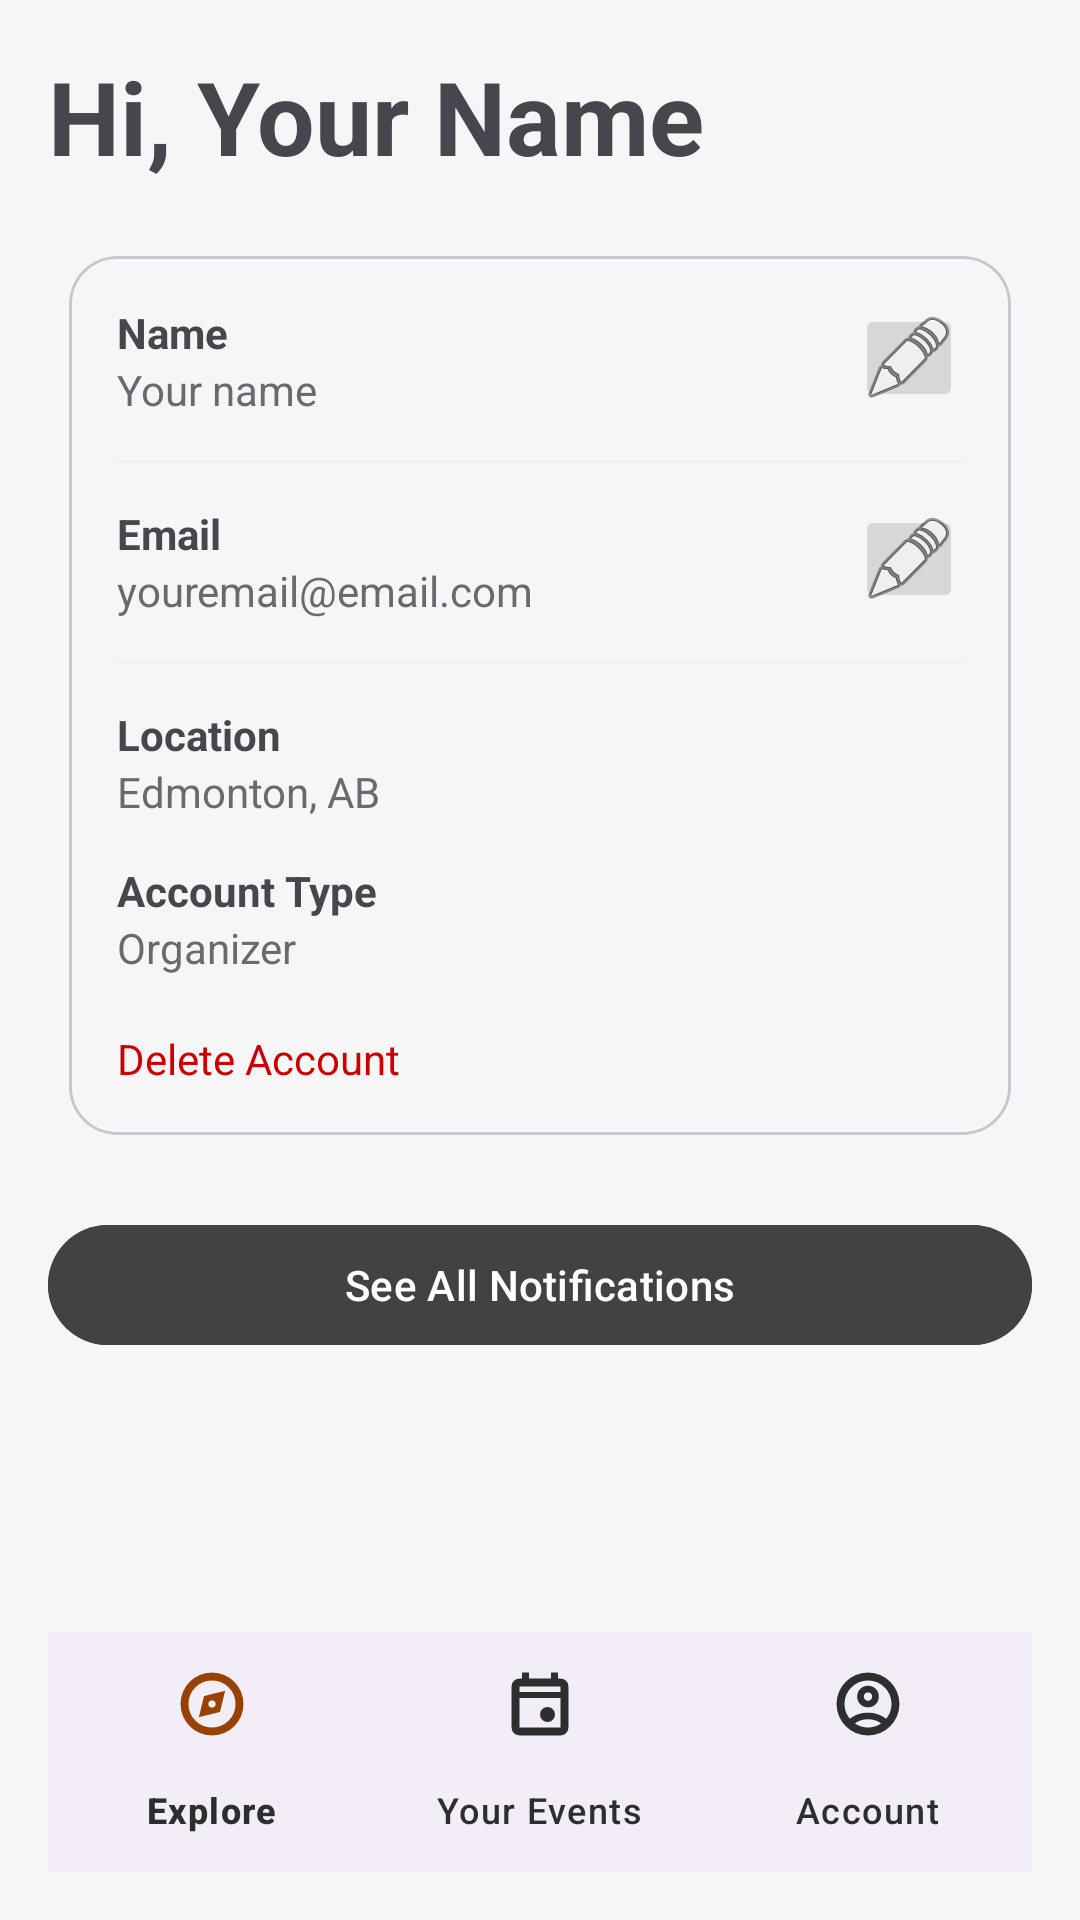

Where icons sit on this 1080 × 1920 app screen, as {"left": x1, "top": y1, "right": x2, "bottom": y2}:
Edit email: {"left": 867, "top": 518, "right": 951, "bottom": 599}
Edit name: {"left": 867, "top": 317, "right": 951, "bottom": 398}
